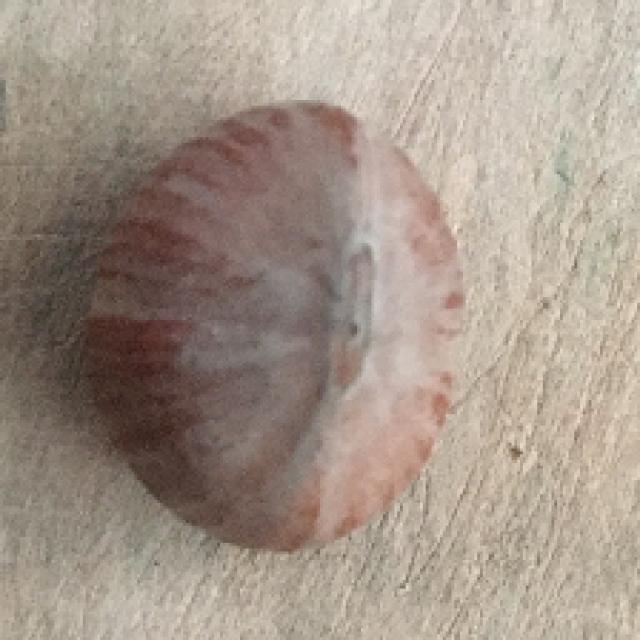qualityHazelnut: (68, 93, 474, 564)
